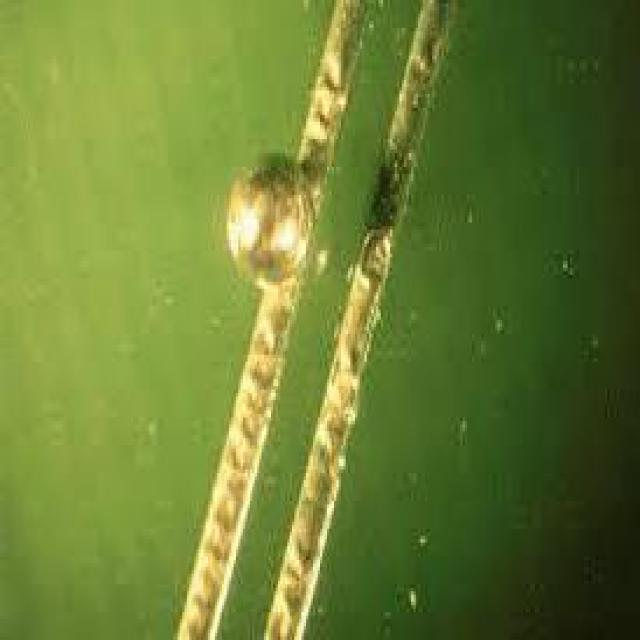redundant: (218, 161, 323, 287)
